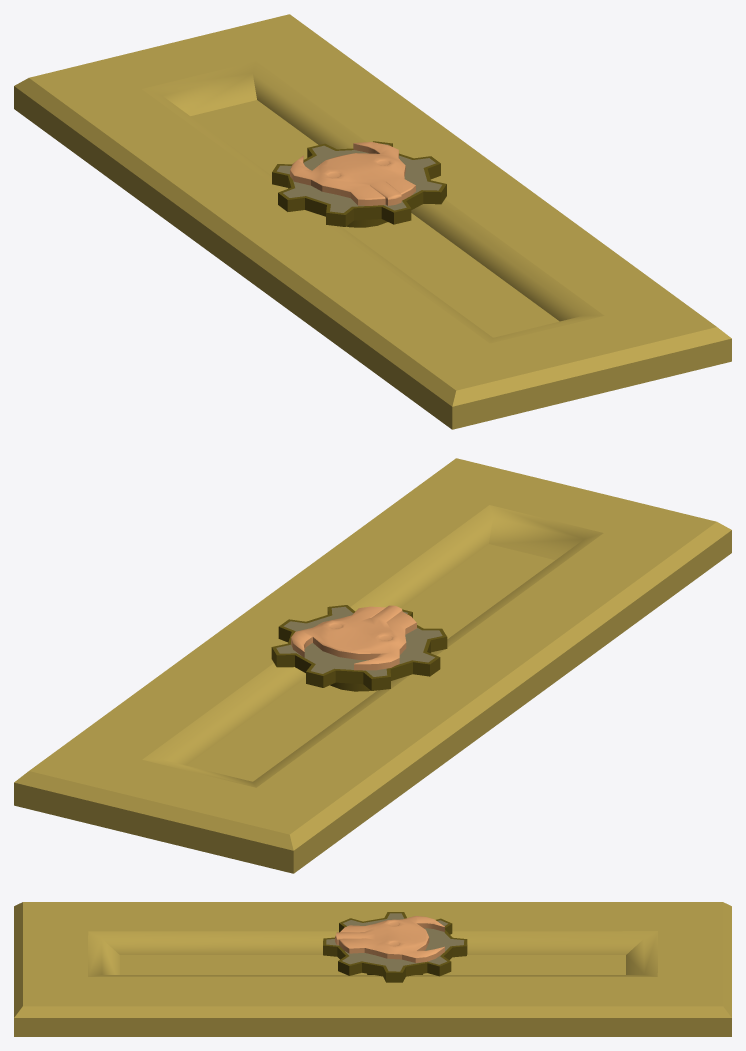
File: Slider.fbx
3 views of the same model, one above another, from view 1: azimuth 30°, elevation 25°; view 2: azimuth 150°, elevation 25°; view 3: azimuth 270°, elevation 25° (orthographic). The views are drawn at different scales.
Visible parts, largest first — view 1: Slider, Skull_and_Gear; view 2: Slider, Skull_and_Gear; view 3: Slider, Skull_and_Gear.
Boxes of the visible parts, box(x1,y1,x2,y2) form: Slider: box(14, 14, 731, 429); Skull_and_Gear: box(272, 141, 446, 227); Slider: box(14, 458, 731, 873); Skull_and_Gear: box(271, 605, 447, 691); Slider: box(14, 902, 731, 1036); Skull_and_Gear: box(323, 912, 467, 982).
Size of the model in its own units: 8.89 by 1.76 by 24.14.
